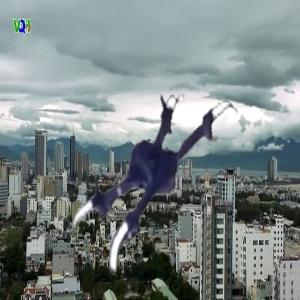drone: (64, 86, 268, 290)
